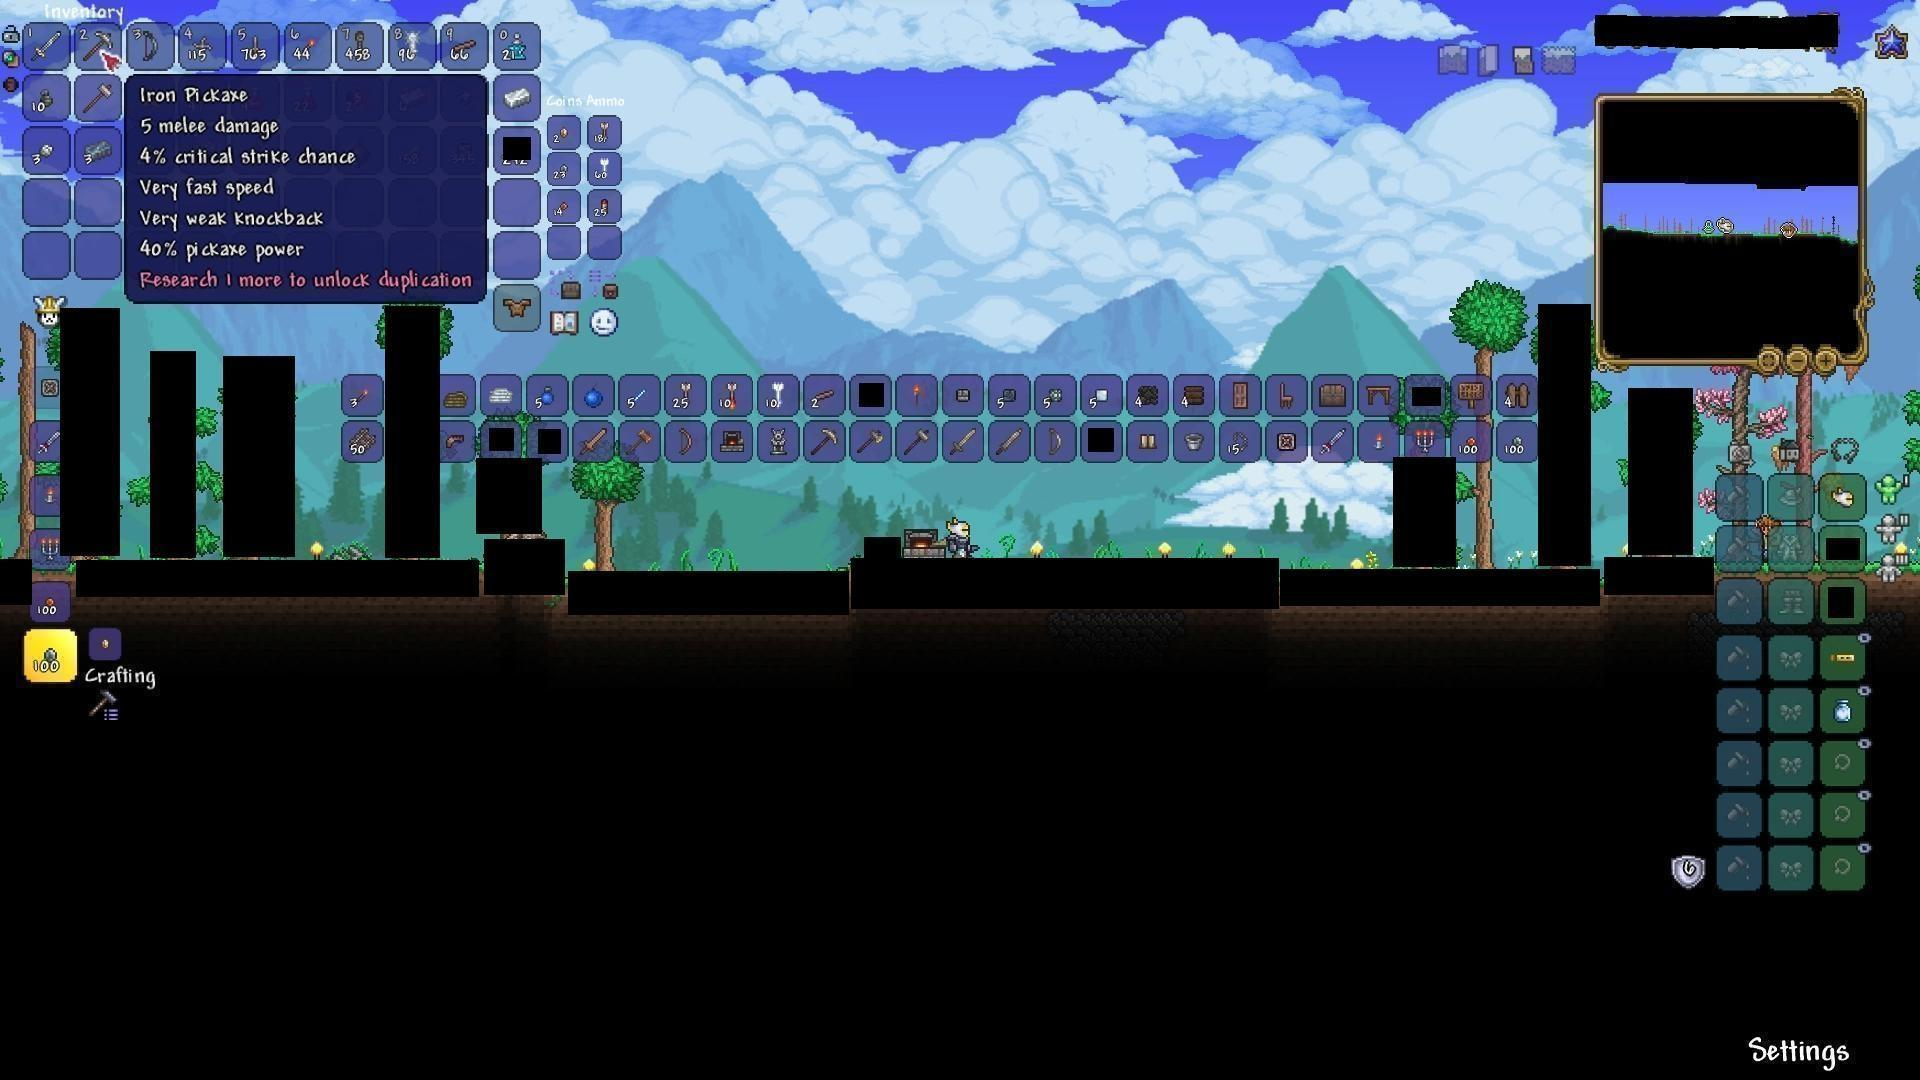breastplate: (501, 295, 535, 322)
helmet: (443, 430, 467, 450)
legs: (1137, 427, 1162, 458)
tree: (1458, 285, 1520, 568), (3, 305, 38, 559), (568, 462, 641, 570)
